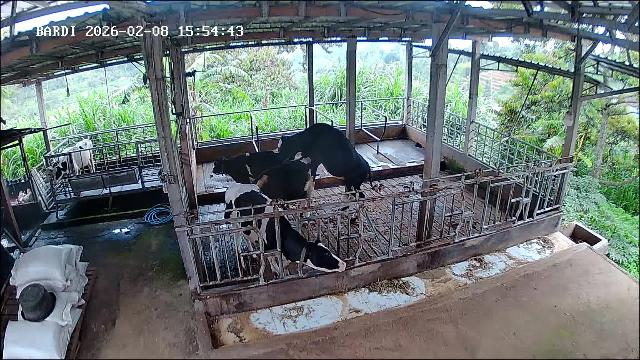mounting: (276, 122, 372, 222)
